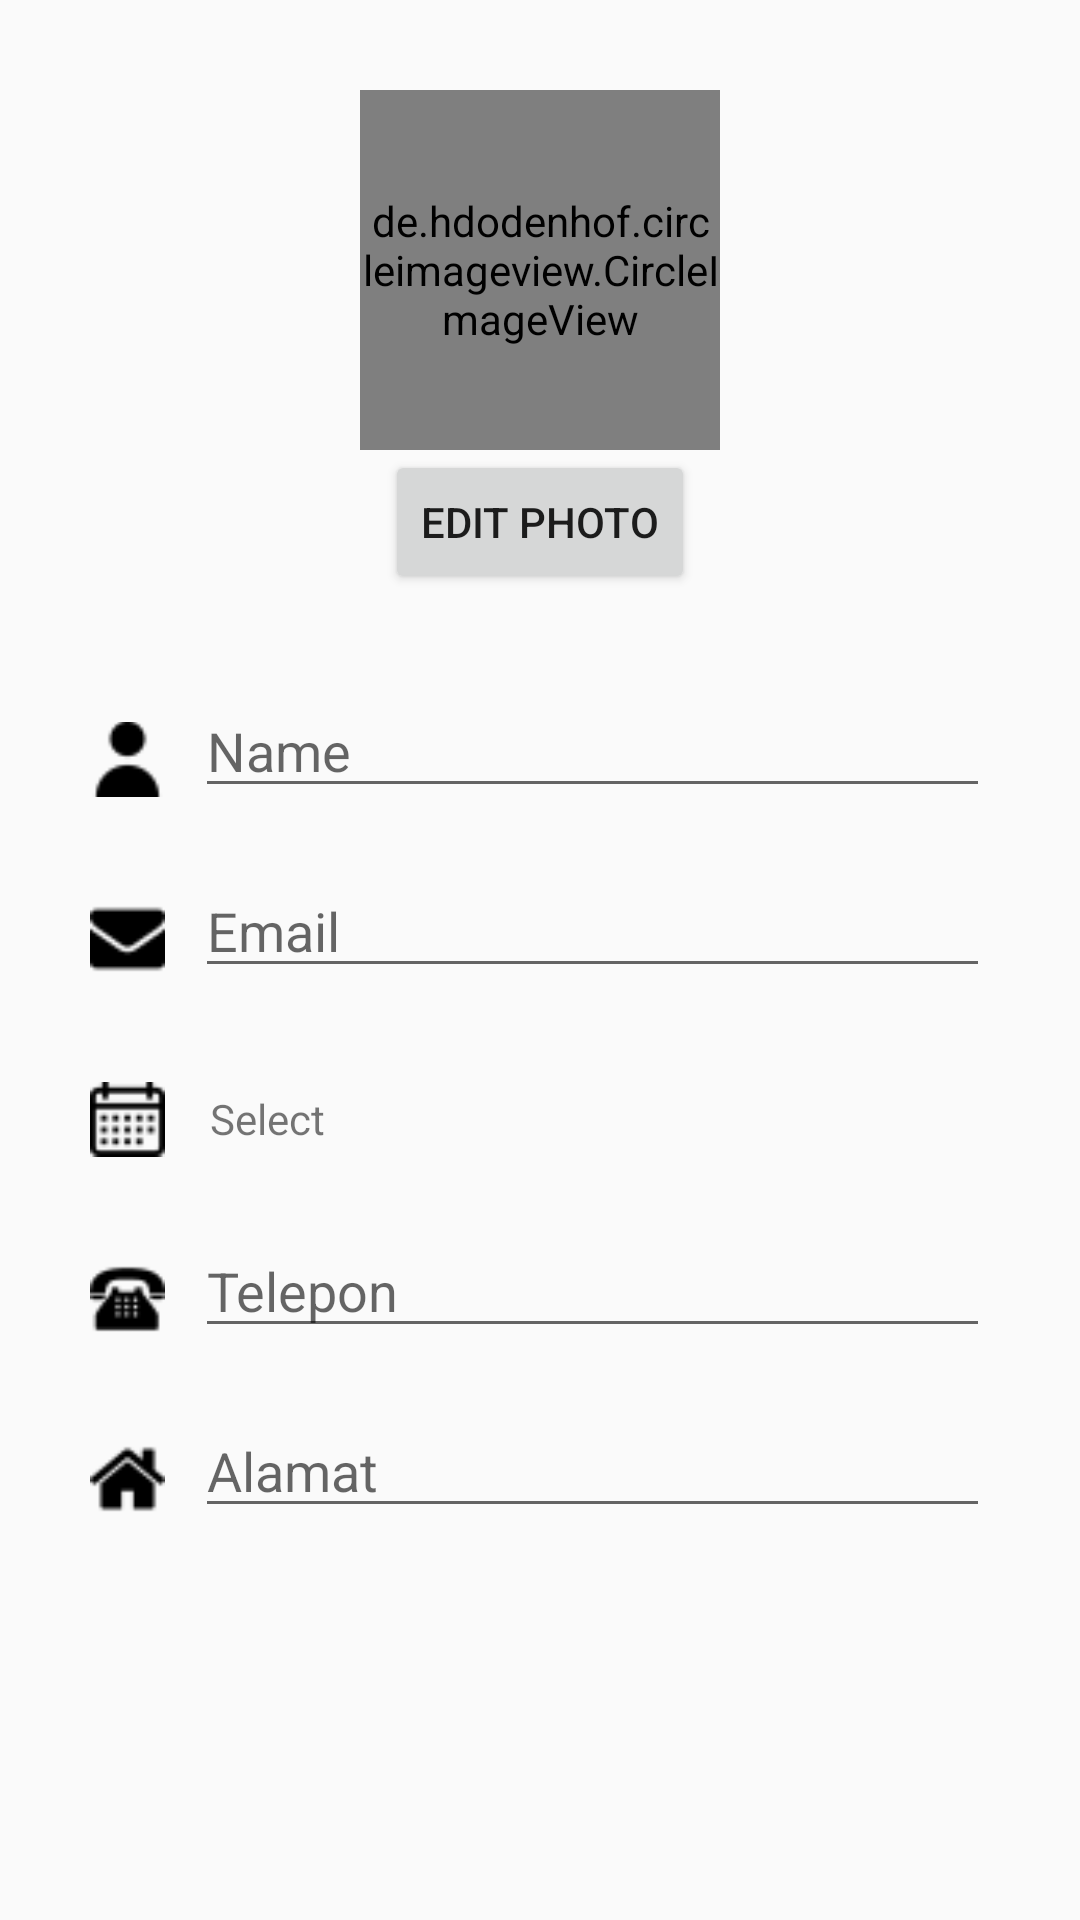

Where icons sit on this 1080×1920 app screen, as (x1,y1,x2,y2):
calendar: (90,1082,165,1157)
home: (90,1447,165,1511)
phone: (90,1267,165,1331)
user: (95,722,160,797)
